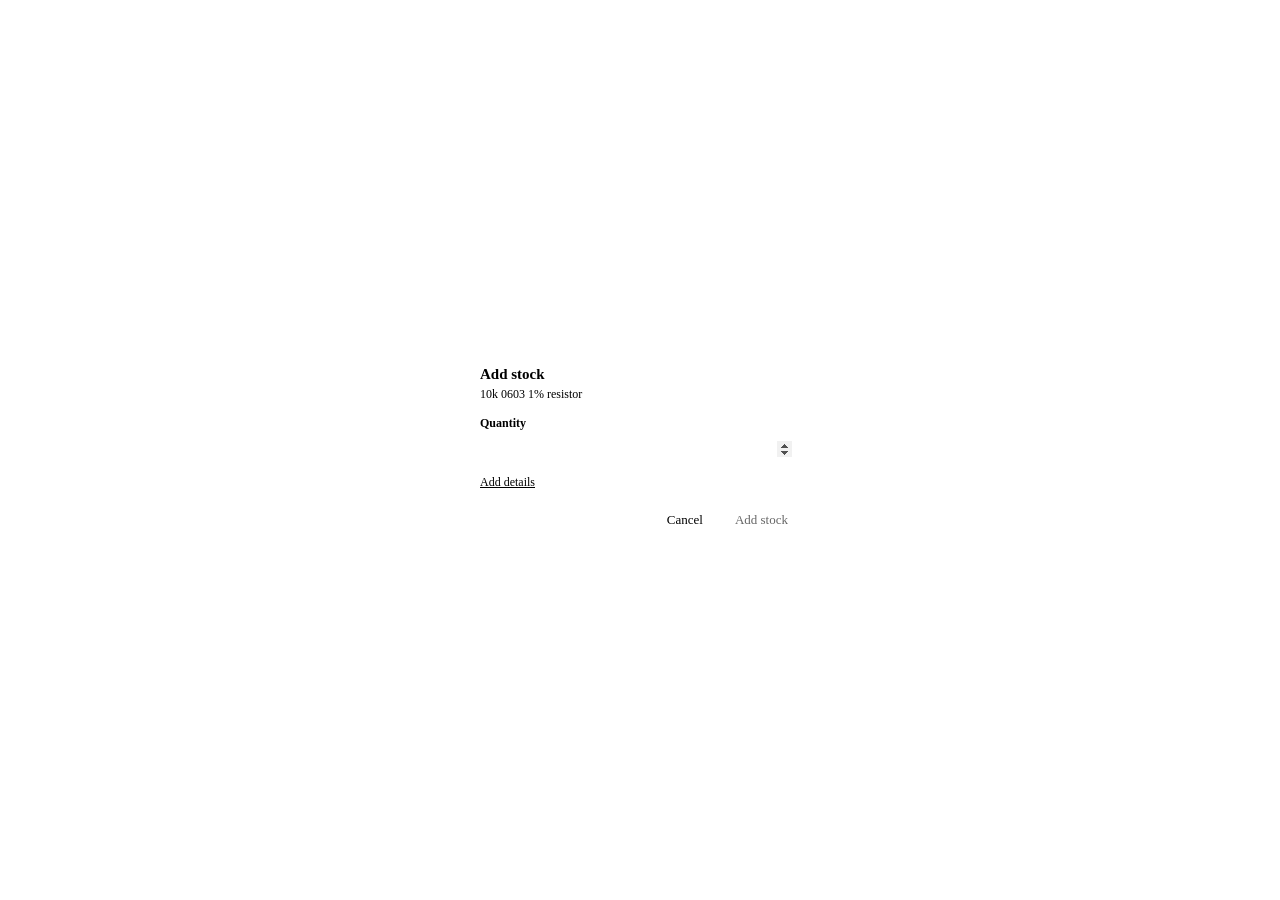
Scenario: QuickAction — preselected part, no project needed (Add stock) › confirms a receive op and toasts the received amount
The width and height of the screenshot is (1280, 900).
Type "10" into the number field labelled "Quantity".
click(640, 449); type("10")  # box [480,435,800,463]
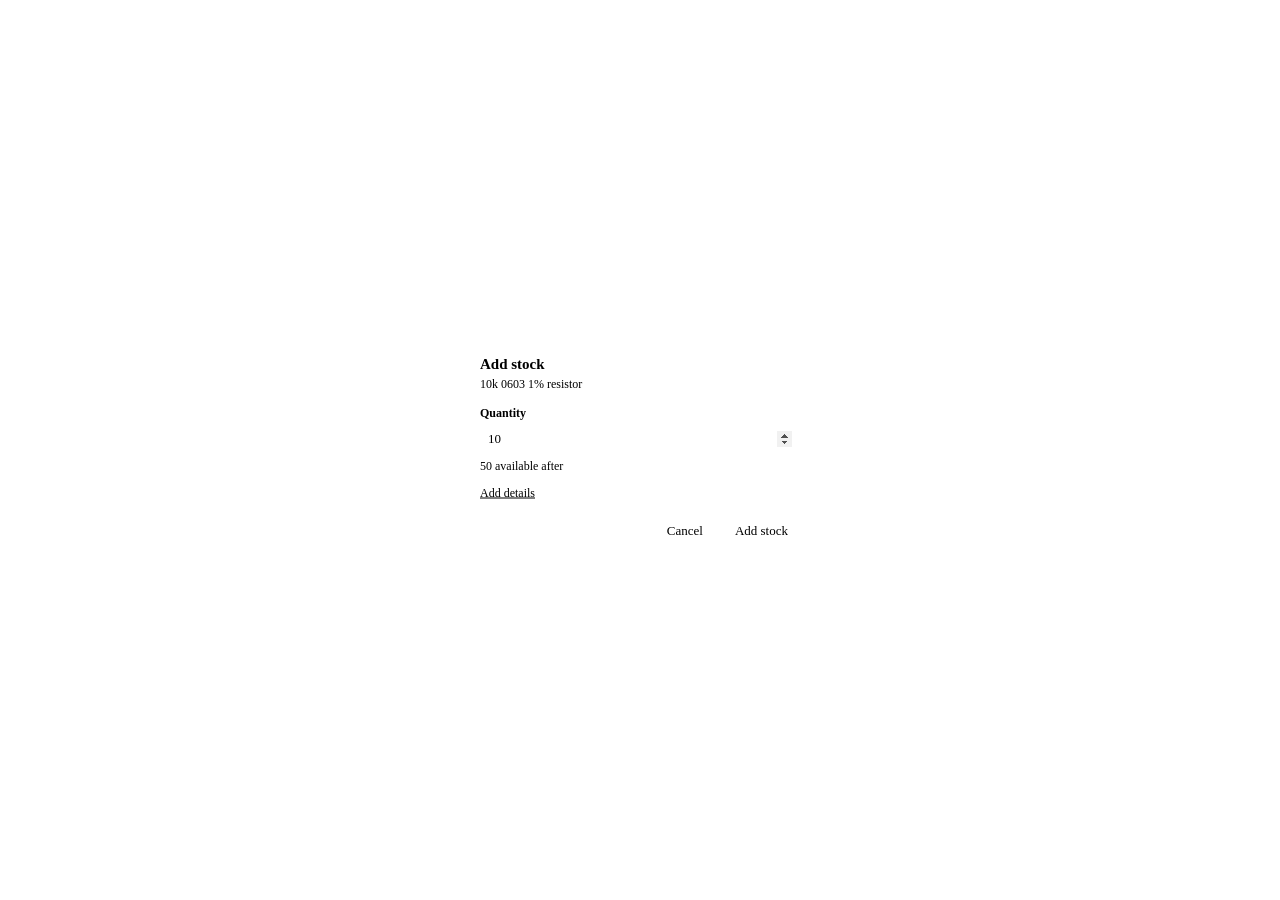
Click the button "Add stock".
click(761, 530)  # box [723,516,800,544]
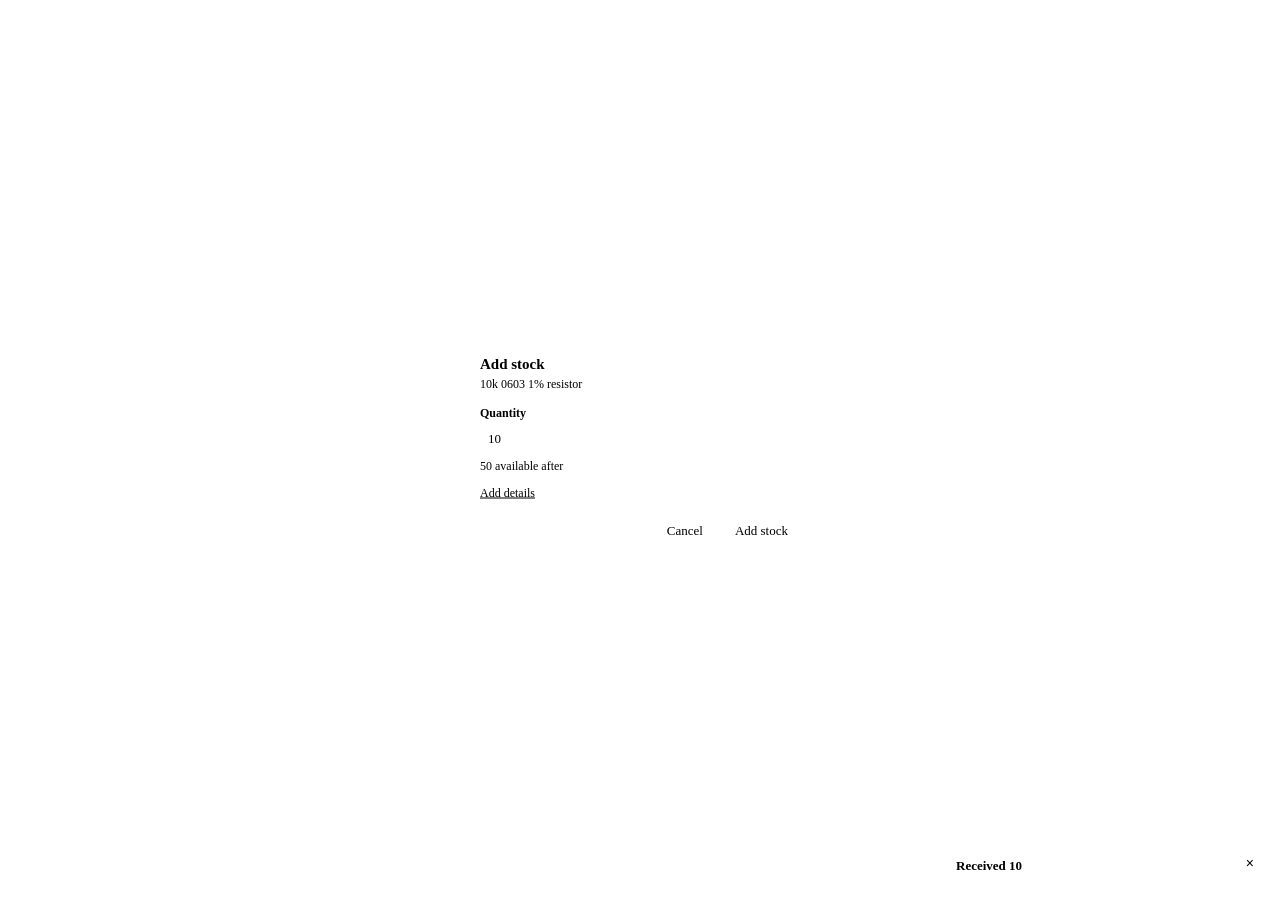
Now the text "Received 10" is shown, box [956,858,1022,873]
